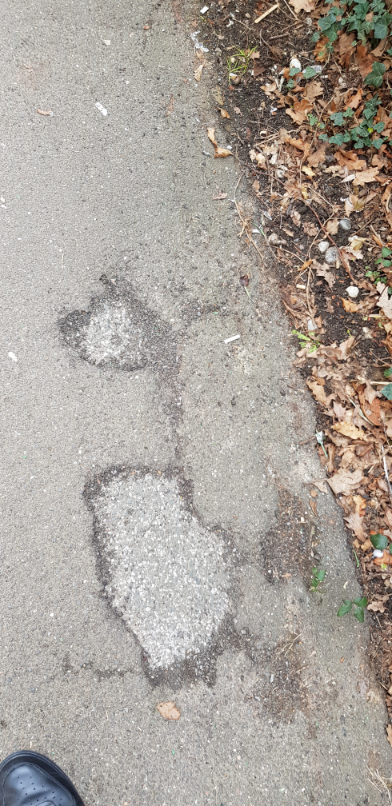pothole: (82, 456, 245, 692), (50, 269, 170, 374)
